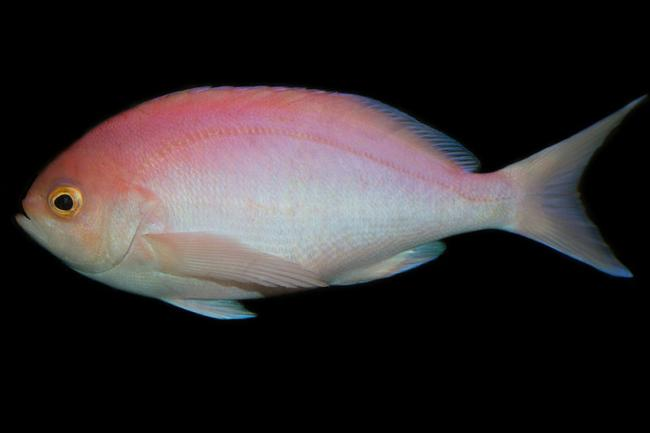fish: (15, 84, 648, 322)
